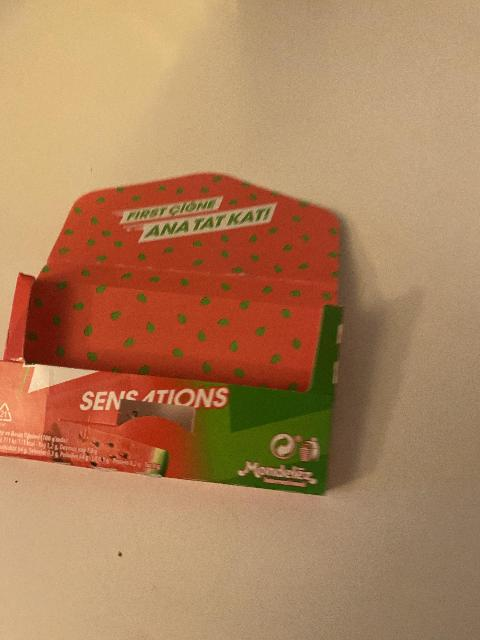Kagit: (0, 175, 343, 497)
